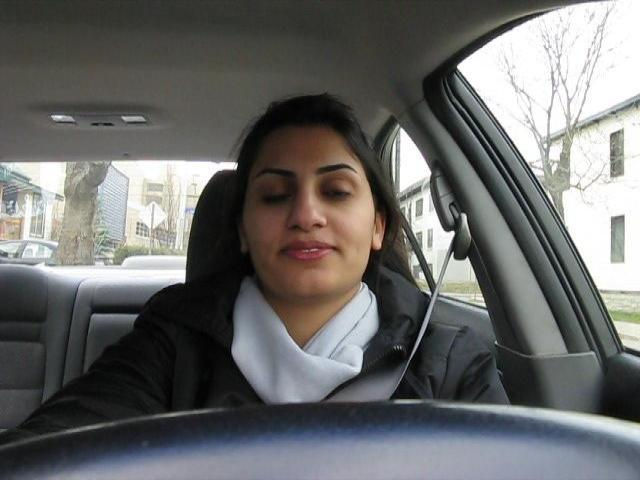eye_closed: (317, 178, 357, 205), (260, 181, 296, 210)
face: (244, 142, 372, 300)
